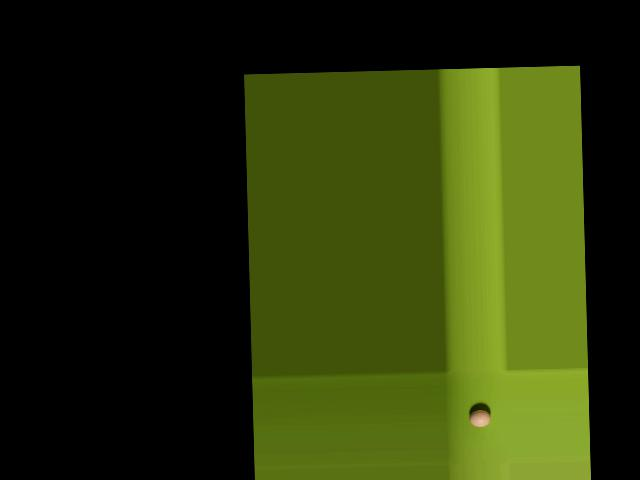egg: (468, 409, 490, 426)
